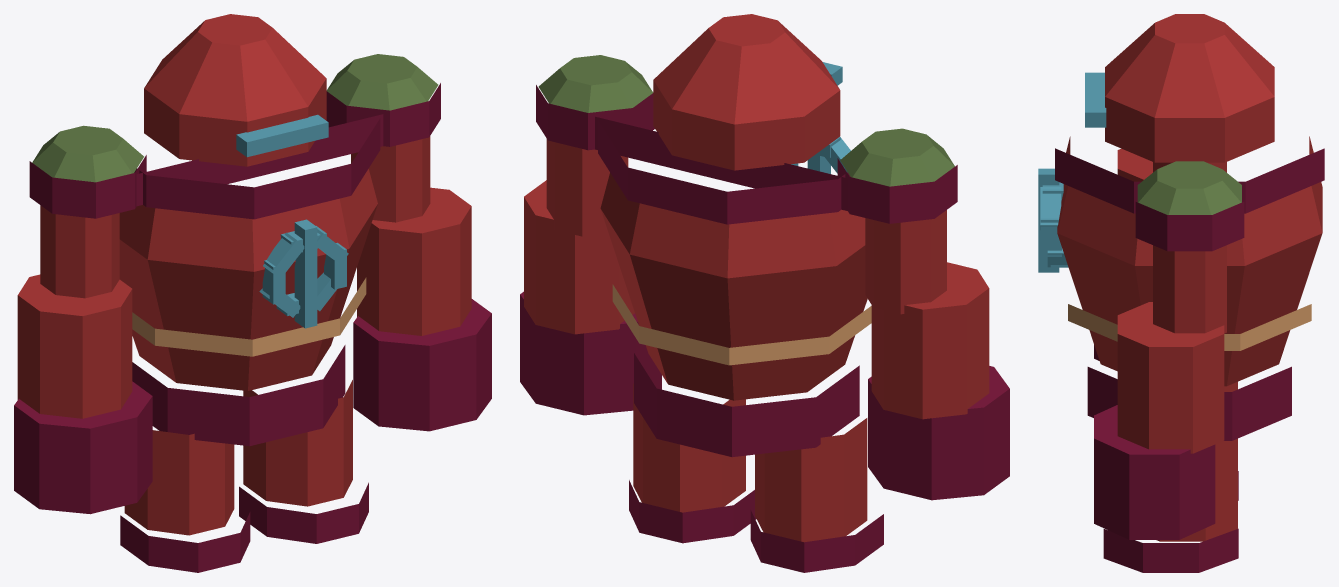
The model's file is golem.glb.
The picture shows the model from 3 angles, left to right: view 1: azimuth 30°, elevation 25°; view 2: azimuth 150°, elevation 25°; view 3: azimuth 270°, elevation 25°; orthographic projection. The views are drawn at different scales.
Parts seen in each view (by area): view 1: Body, ArmR, ArmL, LegR, LegL; view 2: Body, ArmR, ArmL, LegR, LegL; view 3: Body, ArmL, LegL, ArmR.
Boxes of the visible parts, left/top/right/bottom form: Body: left=29, top=14, right=440, bottom=446; ArmR: left=14, top=205, right=152, bottom=514; ArmL: left=351, top=136, right=491, bottom=431; LegR: left=120, top=430, right=250, bottom=572; LegL: left=239, top=380, right=368, bottom=543; Body: left=536, top=14, right=957, bottom=457; ArmR: left=865, top=210, right=1009, bottom=500; ArmL: left=520, top=139, right=661, bottom=415; LegR: left=750, top=418, right=883, bottom=572; LegL: left=629, top=383, right=756, bottom=543; Body: left=1038, top=14, right=1324, bottom=440; ArmL: left=1094, top=245, right=1226, bottom=539; LegL: left=1103, top=438, right=1238, bottom=572; ArmR: left=1094, top=148, right=1226, bottom=360.
Bounding box in the file's own units: 2.21 × 2.3 × 1.22.
